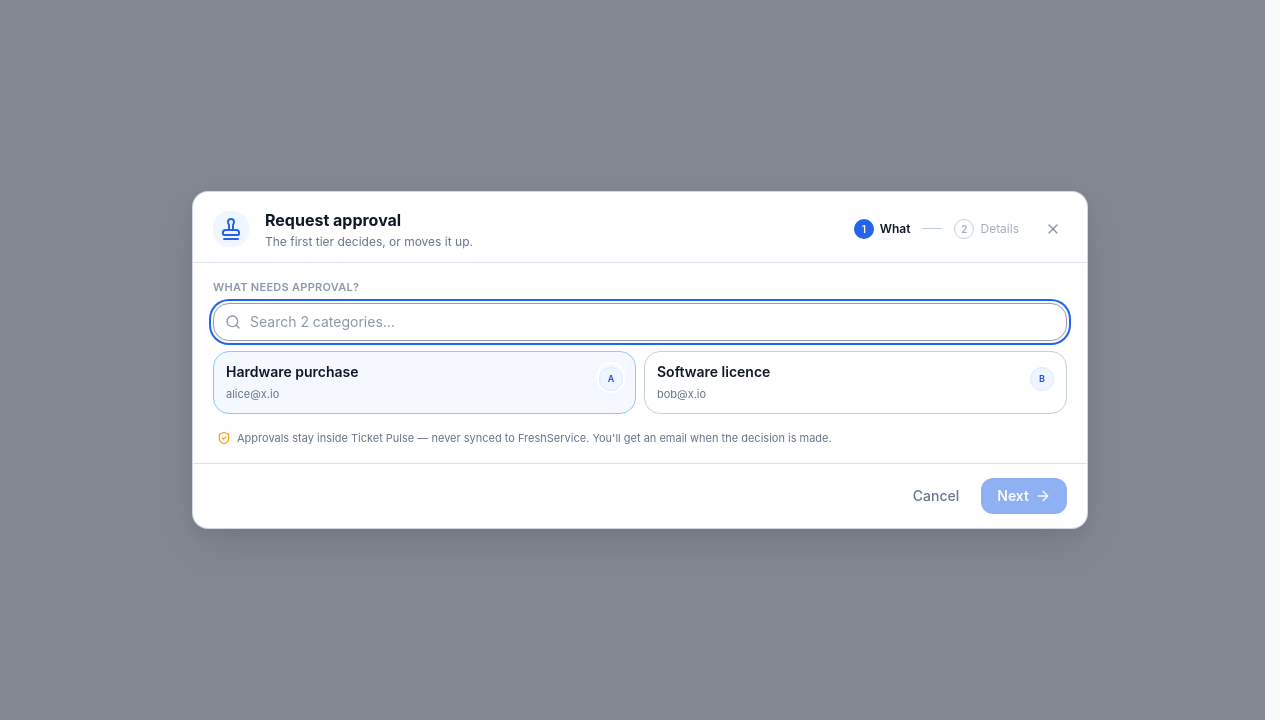
it: RequestApprovalModal TP-only note (QA 08-11 #4) › the note stays visible after selecting a category (with the count sentence)
Click the text "Hardware purchase" at (292, 372), box left=226, top=362, right=359, bottom=382
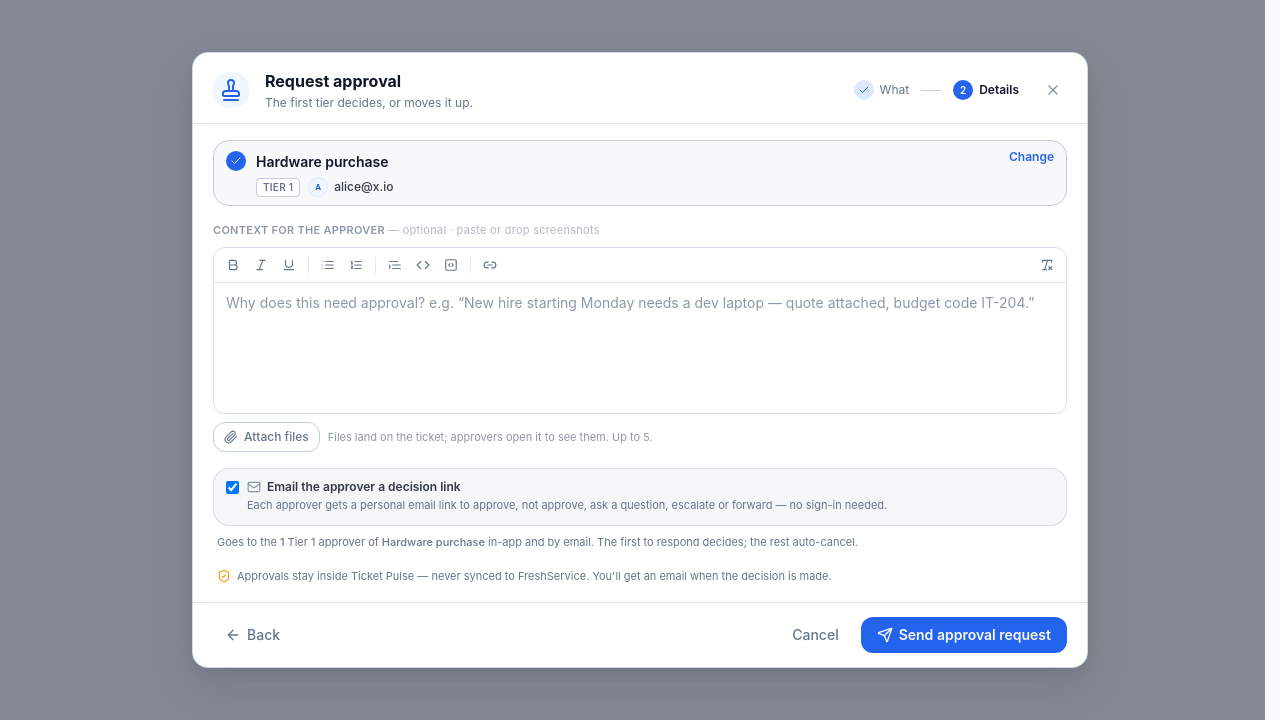
Expected: the text "never synced to FreshService" is shown, left=237, top=569, right=832, bottom=583
Expected: the text "The first to respond decides" is shown, left=591, top=535, right=858, bottom=549
